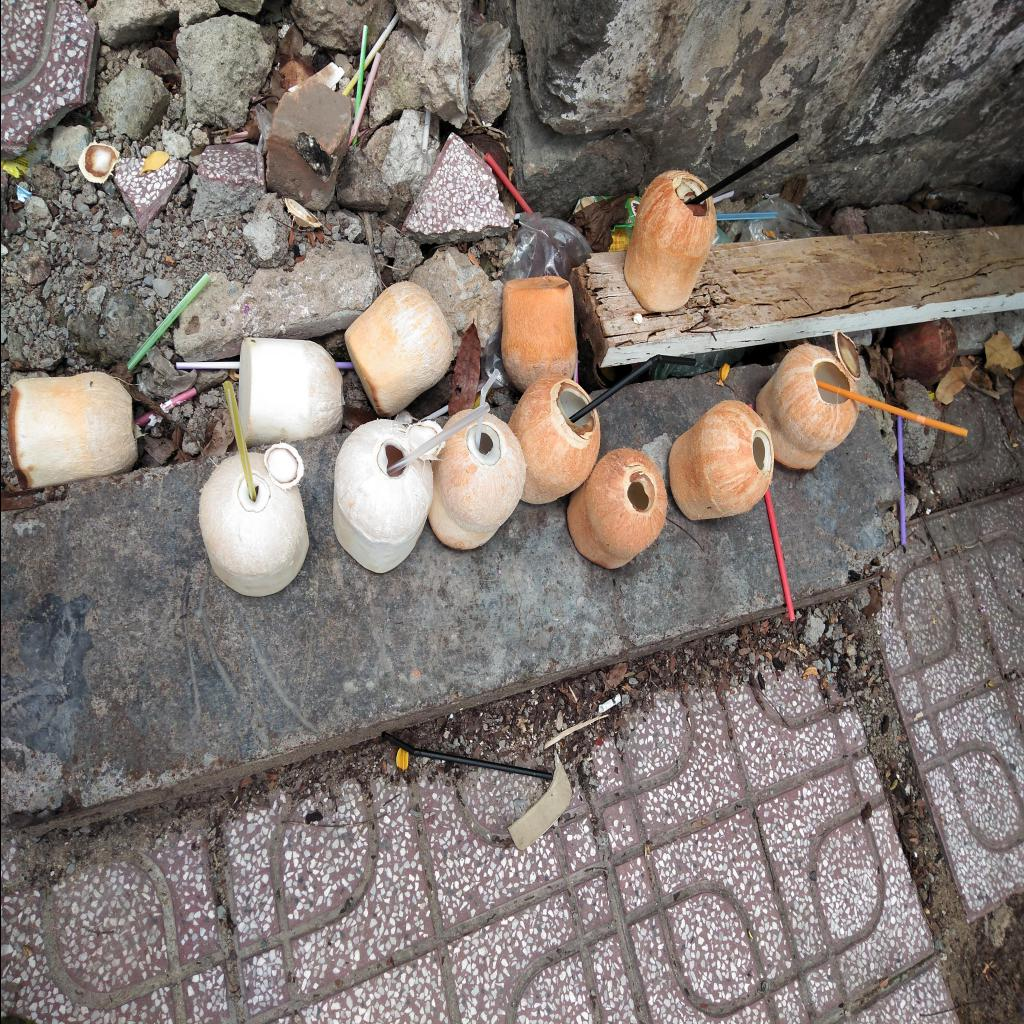Cigarette: (598, 693, 619, 713)
Drink carton: (572, 195, 640, 251)
Other plastic: (0, 140, 38, 176)
Other plastic bottle: (395, 749, 407, 769)
Plastic film: (502, 212, 592, 282), (566, 192, 634, 252), (736, 198, 822, 244), (648, 348, 745, 380), (480, 308, 510, 388), (254, 104, 271, 152), (712, 227, 732, 245)
Plastic straw: (567, 354, 695, 424), (816, 380, 966, 436), (125, 272, 209, 370), (684, 133, 798, 205), (380, 732, 550, 780), (386, 402, 488, 476), (341, 12, 398, 96), (764, 486, 794, 621), (222, 381, 254, 501), (346, 52, 380, 150), (484, 153, 532, 213), (134, 387, 196, 427), (474, 369, 498, 449), (354, 26, 368, 120), (896, 416, 904, 544), (714, 212, 776, 221), (418, 405, 448, 421), (174, 362, 238, 369), (422, 110, 430, 154), (712, 190, 733, 204), (572, 321, 576, 383), (228, 130, 246, 143), (334, 362, 352, 370), (350, 130, 356, 146)
Unlabeled litter: (506, 748, 570, 850), (16, 187, 30, 203)
